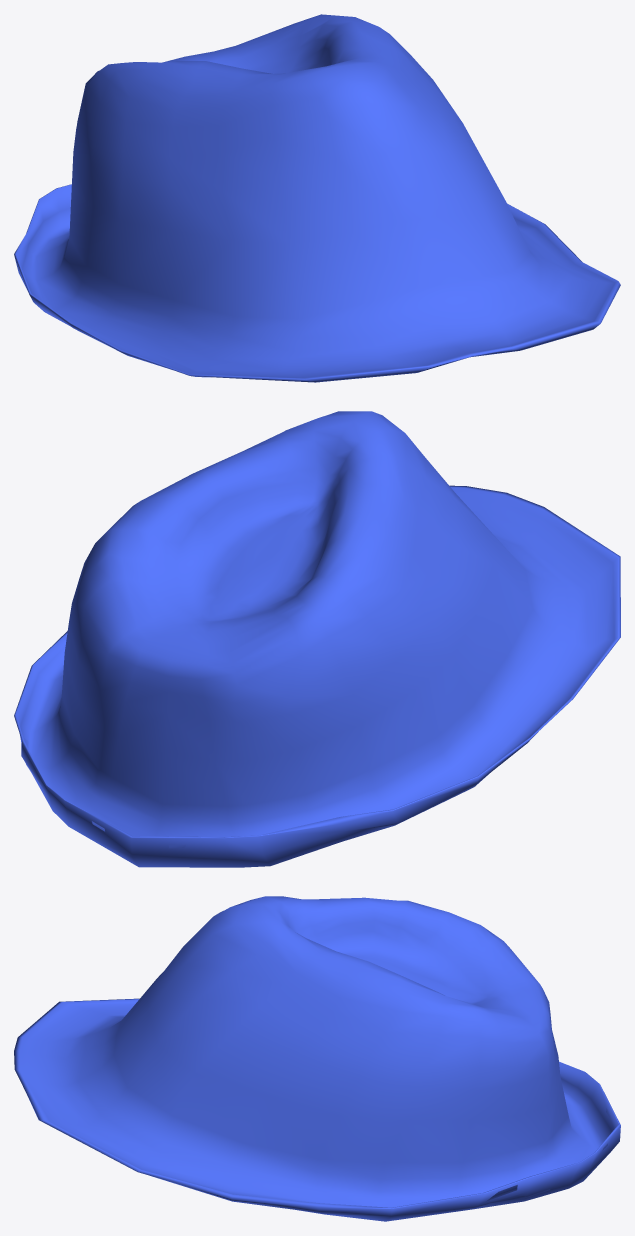
3 views of the same model, one above another, from view 1: azimuth 30°, elevation 25°; view 2: azimuth 150°, elevation 25°; view 3: azimuth 270°, elevation 25° (orthographic). The views are drawn at different scales.
Parts seen in each view (by area): view 1: fedora_cocked.obj; view 2: fedora_cocked.obj; view 3: fedora_cocked.obj.
Boxes of the visible parts, left/top/right/bottom form: fedora_cocked.obj: left=14, top=14, right=620, bottom=382; fedora_cocked.obj: left=14, top=411, right=620, bottom=867; fedora_cocked.obj: left=14, top=896, right=620, bottom=1221.
Bounding box in the file's own units: 0.2367 × 0.1429 × 0.3179.
